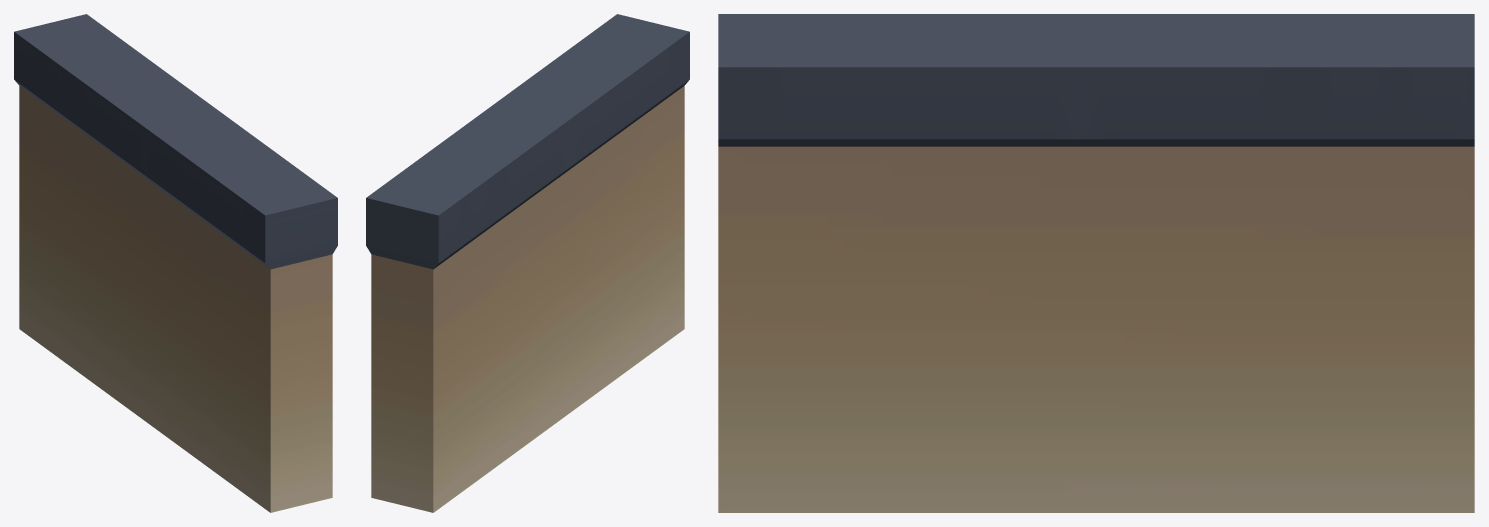
Rendered from Fence.fbx.
3 renders of one model, left to right at view 1: azimuth 30°, elevation 25°; view 2: azimuth 150°, elevation 25°; view 3: azimuth 270°, elevation 25°, orthographic. The views are drawn at different scales.
Visible parts, largest first — view 1: Fence; view 2: Fence; view 3: Fence.
Part boxes in pixels (x1,y1,x2,y2): Fence: (14, 14, 337, 512); Fence: (366, 14, 689, 512); Fence: (718, 14, 1474, 512).
Size of the model in its own units: 21.17 by 83.28 by 127.
